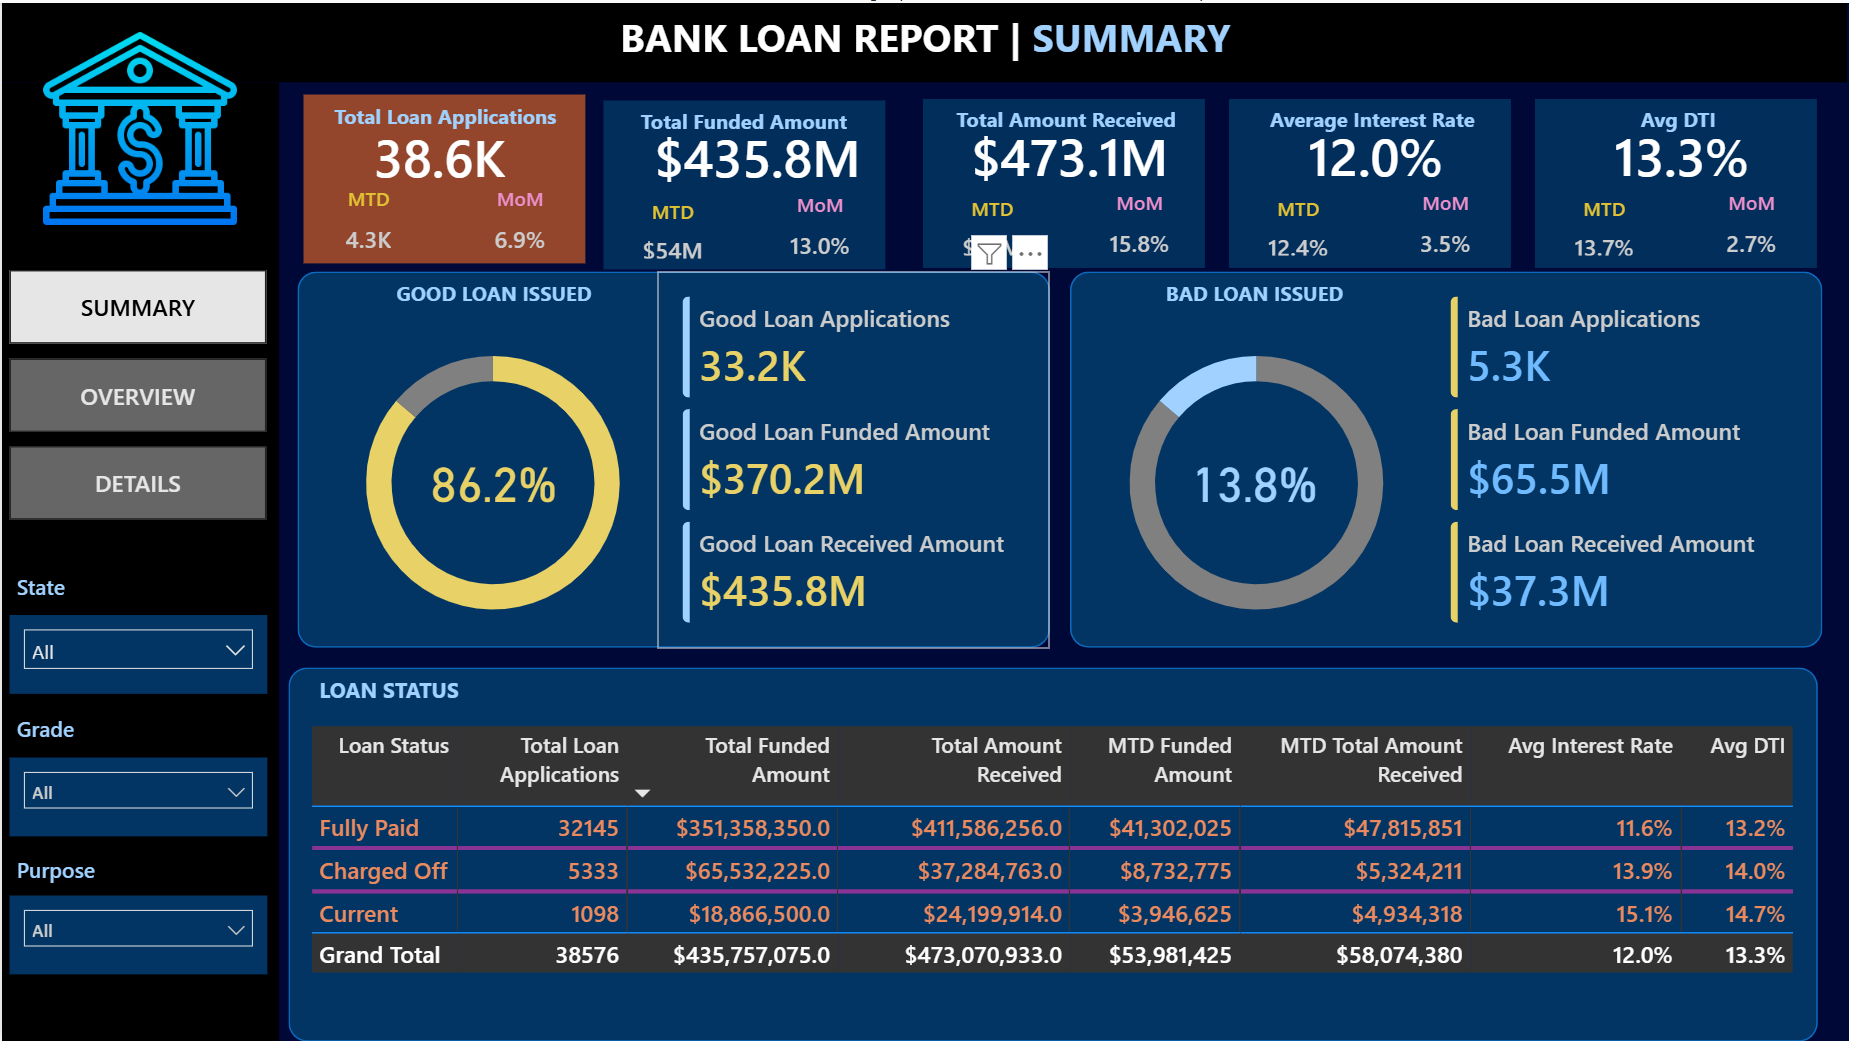

This screenshot's page, from the dashboard's own definition file:
{"tool":"powerbi","page":{"name":"SUMMARY","canvas":[1280,720],"ordinal":0},"visuals":[{"type":"shape","box":[208.8,63.8,195.5,117],"z":0,"group":"g1"},{"type":"shape","box":[638.3,66.6,195.5,117],"z":0,"group":"g4"},{"type":"shape","box":[850.6,66.6,195.5,117],"z":0,"group":"g3"},{"type":"shape","box":[1062.9,66.6,195.5,117],"z":0,"group":"g5"},{"type":"shape","box":[416.9,68.1,195.5,117],"z":0,"group":"g2"},{"type":"shape","box":[204.3,186,521.4,260.7],"z":0},{"type":"shape","box":[0,0,1279.5,55],"z":1000},{"type":"cardVisual","fields":{"Data":["financial_loan (1).Total Funded Amount"]},"box":[421.9,63.8,203.8,83.7],"z":1000,"group":"g2"},{"type":"cardVisual","fields":{"Data":["financial_loan (1).Total Amount Received"]},"box":[641.5,63.8,197.1,82.3],"z":1000,"group":"g4"},{"type":"cardVisual","fields":{"Data":["financial_loan (1).Avg Interest Rate"]},"box":[853.8,63.8,197.1,82.3],"z":1000,"group":"g3"},{"type":"cardVisual","fields":{"Data":["financial_loan (1).Avg DTI"]},"box":[1066.1,63.8,197.1,82.3],"z":1000,"group":"g5"},{"type":"cardVisual","fields":{"Data":["financial_loan (1).Total Loan Applications"]},"box":[215.7,66.7,175,76.1],"z":1000,"group":"g1"},{"type":"shape","box":[0,54.7,192,664.6],"z":2000},{"type":"textbox","box":[219.4,63.8,175.6,35.9],"z":2000,"group":"g1"},{"type":"textbox","box":[649.4,65.5,175.7,40.7],"z":2000,"group":"g4"},{"type":"textbox","box":[861.7,65.5,175.7,40.7],"z":2000,"group":"g3"},{"type":"textbox","box":[1074,65.5,175.7,40.7],"z":2000,"group":"g5"},{"type":"textbox","box":[428,67.1,175.7,40.7],"z":2000,"group":"g2"},{"type":"cardVisual","title":"MTD","fields":{"Data":["financial_loan (1).MTD Loan Applications"]},"box":[208.8,126.3,90.4,54.5],"z":3000,"group":"g1"},{"type":"cardVisual","title":"MTD","fields":{"Data":["financial_loan (1).MTD Total Amount Recieved"]},"box":[637.9,133.7,96.2,50.8],"z":3000,"group":"g4"},{"type":"cardVisual","title":"MTD","fields":{"Data":["financial_loan (1).MTD Avg Int Rate"]},"box":[850.2,133.7,96.2,50.8],"z":3000,"group":"g3"},{"type":"cardVisual","title":"MTD","fields":{"Data":["financial_loan (1).MTD Avg DTI"]},"box":[1062.5,133.7,96.2,50.8],"z":3000,"group":"g5"},{"type":"cardVisual","title":"MTD","fields":{"Data":["financial_loan (1).MTD Funded Amount"]},"box":[416.5,135.2,96.2,50.8],"z":3000,"group":"g2"},{"type":"textbox","box":[253.7,186,174.7,35.2],"z":3000},{"type":"cardVisual","title":"MoM","fields":{"Data":["financial_loan (1).MoM Loan Application"]},"box":[313.9,126.3,90.4,54.5],"z":4000,"group":"g1"},{"type":"cardVisual","title":"MoM","fields":{"Data":["financial_loan (1).MoM Total Amount Recieved"]},"box":[743.4,129.1,90.4,54.5],"z":4000,"group":"g4"},{"type":"cardVisual","title":"MoM","fields":{"Data":["financial_loan (1).MoM Avg Int Rate"]},"box":[955.7,129.1,90.4,54.5],"z":4000,"group":"g3"},{"type":"cardVisual","title":"MoM","fields":{"Data":["financial_loan (1).MoM Avg DTI"]},"box":[1168,129.1,90.4,54.5],"z":4000,"group":"g5"},{"type":"cardVisual","title":"MoM","fields":{"Data":["financial_loan (1).MoM Total Funded Amount"]},"box":[522,130.6,90.4,54.5],"z":4000,"group":"g2"},{"type":"cardVisual","fields":{"Data":["financial_loan (1).Good Loan %"]},"box":[253.7,294.5,174.7,76.1],"z":4000},{"type":"textbox","box":[412.5,0,454.5,57.3],"z":5000},{"type":"group","id":"g1","title":"Group 1","box":[208.8,63.8,195.5,117],"z":6000},{"type":"group","id":"g2","title":"Group 1","box":[416.5,63.8,209.2,122.2],"z":7000},{"type":"group","id":"g3","title":"Group 1","box":[850.2,63.8,200.1,121.2],"z":8000},{"type":"shape","box":[198.7,460.8,1059.7,259.3],"z":9000},{"type":"group","id":"g4","title":"Group 1","box":[637.9,63.8,200.1,121.2],"z":10000},{"type":"group","id":"g5","title":"Group 1","box":[1062.5,63.8,200.1,121.2],"z":11000},{"type":"shape","box":[739.8,186,521.4,260.7],"z":12000},{"type":"donutChart","fields":{"Category":["financial_loan (1).Good vs Bad Loan"],"Y":["financial_loan (1).Total Loan Applications"]},"box":[215.6,217,249.4,229.7],"z":13000},{"type":"cardVisual","fields":{"Data":["financial_loan (1).Good Loan Applications","financial_loan (1).Good Loan Funded Amount","financial_loan (1).Good Loan Received Amount"]},"box":[453.8,186,272,260.7],"z":14000},{"type":"donutChart","fields":{"Category":["financial_loan (1).Good vs Bad Loan"],"Y":["financial_loan (1).Total Loan Applications"]},"box":[744,217,249.4,229.7],"z":15000},{"type":"textbox","box":[780.7,186,174.7,35.2],"z":16000},{"type":"cardVisual","fields":{"Data":["financial_loan (1).Bad Loan %"]},"box":[780.7,294.5,174.7,76.1],"z":17000},{"type":"cardVisual","fields":{"Data":["financial_loan (1).Bad Loan Applications","financial_loan (1).Bad Loan Funded Amount","financial_loan (1).Bad Loan Received Amount"]},"box":[986.4,186,272,260.7],"z":18000},{"type":"tableEx","fields":{"Values":["financial_loan (1).loan_status","financial_loan (1).Total Loan Applications","financial_loan (1).Total Funded Amount","financial_loan (1).Total Amount Received","financial_loan (1).MTD Funded Amount","financial_loan (1).MTD Total Amount Recieved","financial_loan (1).Avg Interest Rate","financial_loan (1).Avg DTI"]},"box":[208.6,496,1045.6,214.2],"z":19000},{"type":"textbox","box":[211.4,460.8,129.6,35.2],"z":20000},{"type":"pageNavigator","box":[5.6,184.6,179,174.7],"z":21000},{"type":"slicer","fields":{"Values":["financial_loan (1).address_state"]},"box":[5.6,424.1,179,55],"z":21000,"group":"g6"},{"type":"image","box":[0,15.3,191.5,142.9],"z":22000},{"type":"textbox","box":[5.6,388.9,174.7,35.2],"z":22000,"group":"g6"},{"type":"group","id":"g6","title":"Group 2","box":[5.6,388.9,179,90.2],"z":23000},{"type":"slicer","fields":{"Values":["financial_loan (1).grade"]},"box":[5.6,522.8,179,55],"z":23000,"group":"g8"},{"type":"group","id":"g7","title":"Group 4","box":[5.6,487.6,179,186],"z":24000},{"type":"textbox","box":[5.6,487.6,174.7,35.2],"z":24000,"group":"g8"},{"type":"slicer","fields":{"Values":["financial_loan (1).purpose"]},"box":[5.6,618.7,179,55],"z":25000,"group":"g7"},{"type":"textbox","box":[5.6,584.8,174.7,35.2],"z":26000,"group":"g7"},{"type":"group","id":"g8","title":"Group 3","box":[5.6,487.6,179,90.2],"z":27003,"group":"g7"}]}

Visuals, with their boxes in screenshot pixels (x1, y1, x2, y2), scaled from the page's 1280x720 canvas onto the 1849x1041 screenshot:
shape: select_region(302, 92, 584, 261)
shape: select_region(922, 96, 1204, 265)
shape: select_region(1229, 96, 1511, 265)
shape: select_region(1535, 96, 1818, 265)
shape: select_region(602, 98, 885, 268)
shape: select_region(295, 269, 1048, 646)
shape: select_region(0, 0, 1848, 80)
cardVisual - financial_loan (1).Total Funded Amount: select_region(609, 92, 904, 213)
cardVisual - financial_loan (1).Total Amount Received: select_region(927, 92, 1211, 211)
cardVisual - financial_loan (1).Avg Interest Rate: select_region(1233, 92, 1518, 211)
cardVisual - financial_loan (1).Avg DTI: select_region(1540, 92, 1825, 211)
cardVisual - financial_loan (1).Total Loan Applications: select_region(312, 96, 564, 206)
shape: select_region(0, 79, 277, 1040)
textbox: select_region(317, 92, 571, 144)
textbox: select_region(938, 95, 1192, 154)
textbox: select_region(1245, 95, 1499, 154)
textbox: select_region(1551, 95, 1805, 154)
textbox: select_region(618, 97, 872, 156)
"MTD" cardVisual: select_region(302, 183, 432, 261)
"MTD" cardVisual: select_region(921, 193, 1060, 267)
"MTD" cardVisual: select_region(1228, 193, 1367, 267)
"MTD" cardVisual: select_region(1535, 193, 1674, 267)
"MTD" cardVisual: select_region(602, 195, 741, 269)
textbox: select_region(366, 269, 619, 320)
"MoM" cardVisual: select_region(453, 183, 584, 261)
"MoM" cardVisual: select_region(1074, 187, 1204, 265)
"MoM" cardVisual: select_region(1381, 187, 1511, 265)
"MoM" cardVisual: select_region(1687, 187, 1818, 265)
"MoM" cardVisual: select_region(754, 189, 885, 268)
cardVisual - financial_loan (1).Good Loan %: select_region(366, 426, 619, 536)
textbox: select_region(596, 0, 1252, 83)
"Group 1" group: select_region(302, 92, 584, 261)
"Group 1" group: select_region(602, 92, 904, 269)
"Group 1" group: select_region(1228, 92, 1517, 267)
shape: select_region(287, 666, 1818, 1040)
"Group 1" group: select_region(921, 92, 1211, 267)
"Group 1" group: select_region(1535, 92, 1824, 267)
shape: select_region(1069, 269, 1822, 646)
donutChart - financial_loan (1).Good vs Bad Loan x financial_loan (1).Total Loan Applications: select_region(311, 314, 672, 646)
cardVisual - financial_loan (1).Good Loan Applications x financial_loan (1).Good Loan Funded Amount: select_region(656, 269, 1048, 646)
donutChart - financial_loan (1).Good vs Bad Loan x financial_loan (1).Total Loan Applications: select_region(1075, 314, 1435, 646)
textbox: select_region(1128, 269, 1380, 320)
cardVisual - financial_loan (1).Bad Loan %: select_region(1128, 426, 1380, 536)
cardVisual - financial_loan (1).Bad Loan Applications x financial_loan (1).Bad Loan Funded Amount: select_region(1425, 269, 1818, 646)
tableEx - financial_loan (1).loan_status x financial_loan (1).Total Loan Applications: select_region(301, 717, 1812, 1027)
textbox: select_region(305, 666, 493, 717)
pageNavigator: select_region(8, 267, 267, 519)
slicer - financial_loan (1).address_state: select_region(8, 613, 267, 693)
image: select_region(0, 22, 277, 229)
textbox: select_region(8, 562, 260, 613)
"Group 2" group: select_region(8, 562, 267, 693)
slicer - financial_loan (1).grade: select_region(8, 756, 267, 835)
"Group 4" group: select_region(8, 705, 267, 974)
textbox: select_region(8, 705, 260, 756)
slicer - financial_loan (1).purpose: select_region(8, 895, 267, 974)
textbox: select_region(8, 846, 260, 896)
"Group 3" group: select_region(8, 705, 267, 835)
